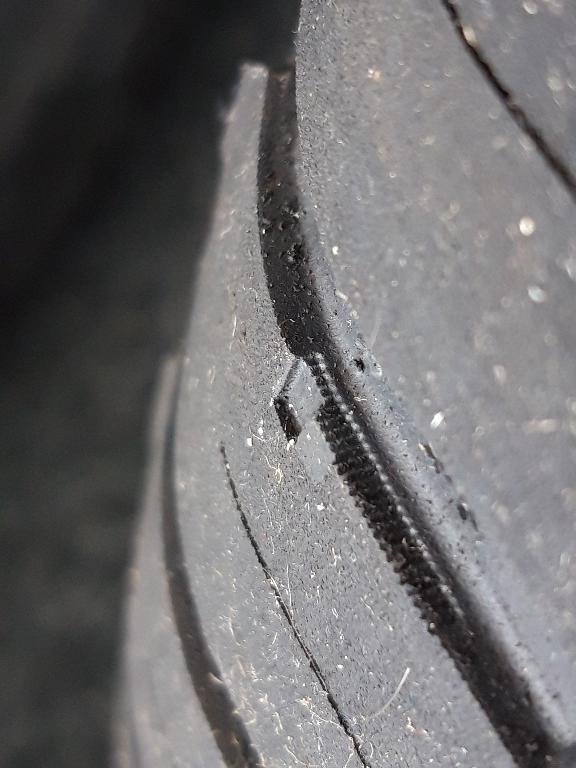temoin:25: (263, 345, 383, 495)
